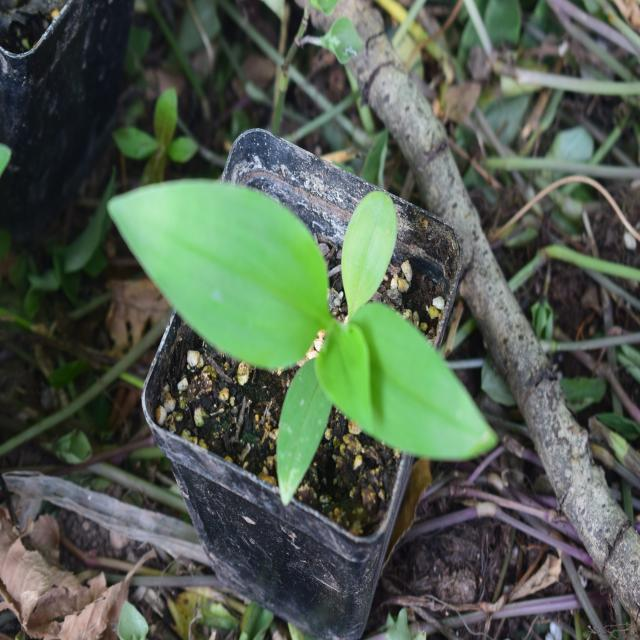Common Dayflower: (111, 167, 492, 491)
